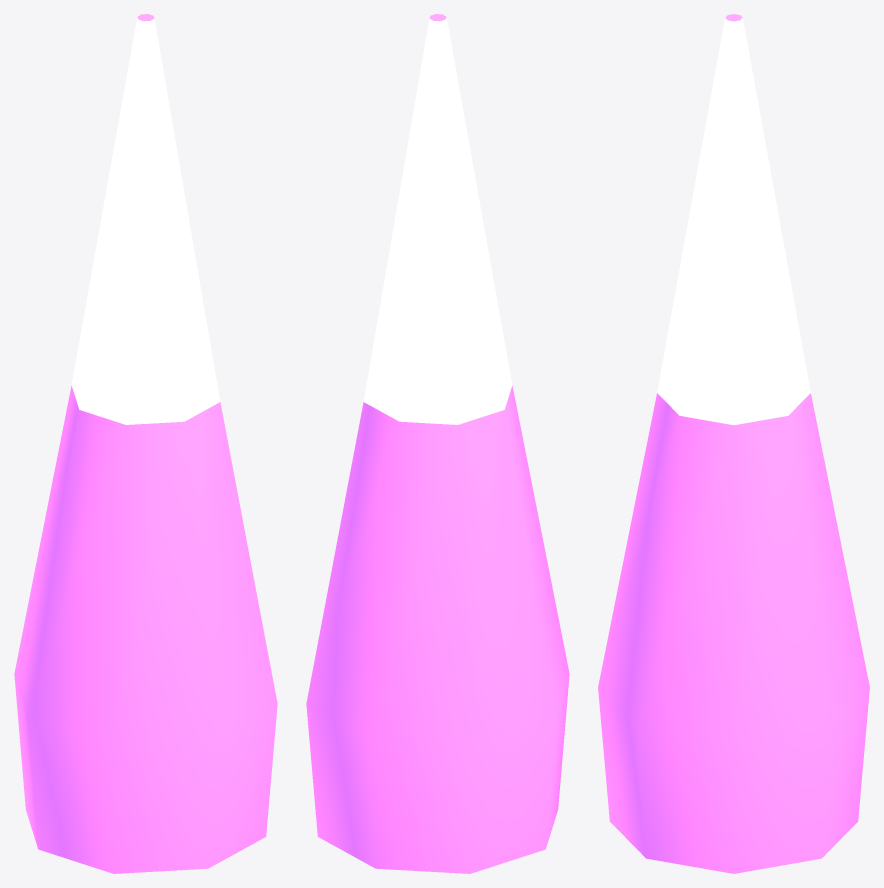
The model's file is SM_VFX_Plume_HQ.glb.
The picture shows the model from 3 angles, left to right: view 1: azimuth 30°, elevation 25°; view 2: azimuth 150°, elevation 25°; view 3: azimuth 270°, elevation 25°; orthographic projection.
Visible parts, largest first — view 1: SM_VFX_Plume_HQ; view 2: SM_VFX_Plume_HQ; view 3: SM_VFX_Plume_HQ.
Part boxes in pixels (x1,y1,x2,y2): SM_VFX_Plume_HQ: (14, 14, 277, 873); SM_VFX_Plume_HQ: (306, 14, 569, 873); SM_VFX_Plume_HQ: (598, 14, 869, 873).
Bounding box in the file's own units: 0.92 × 3 × 0.92.
1 material, 1 textured.
